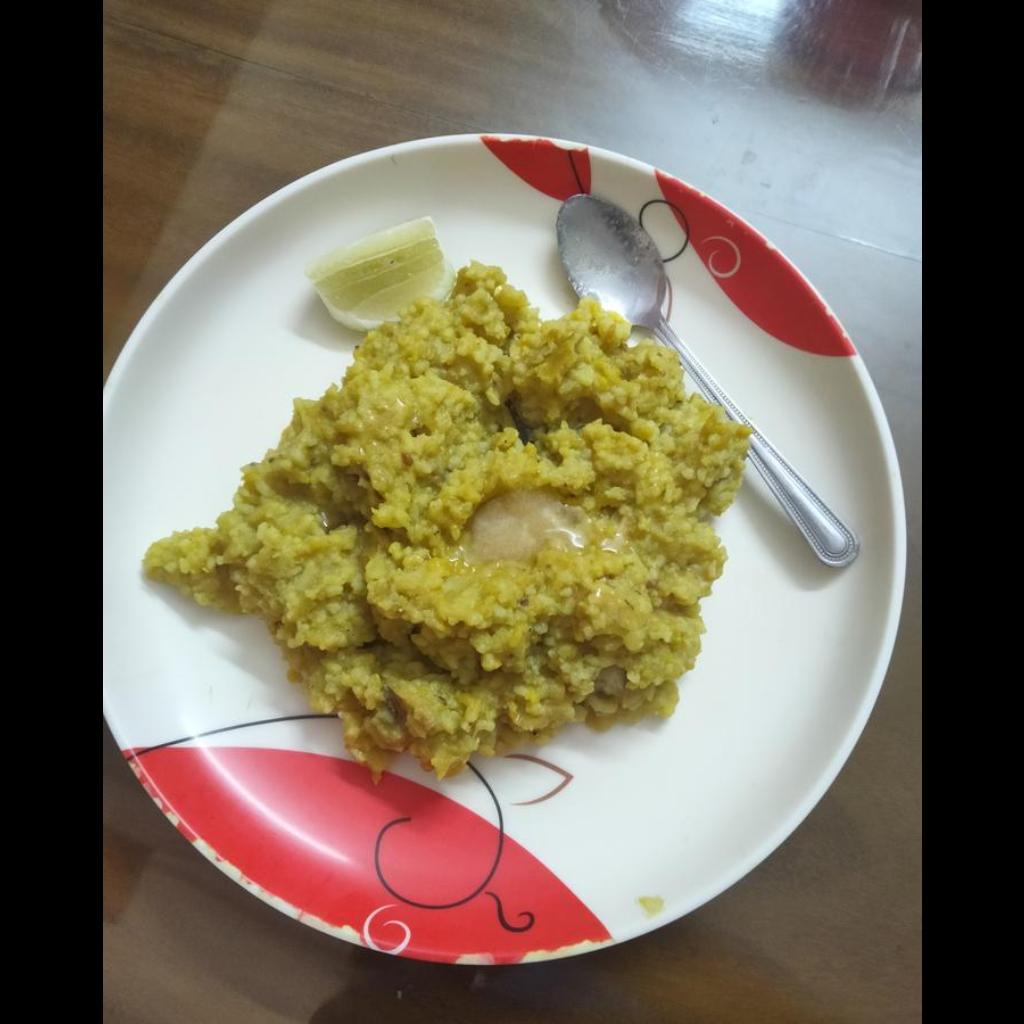khichuri: (142, 268, 742, 772)
lemon: (299, 222, 442, 324)
